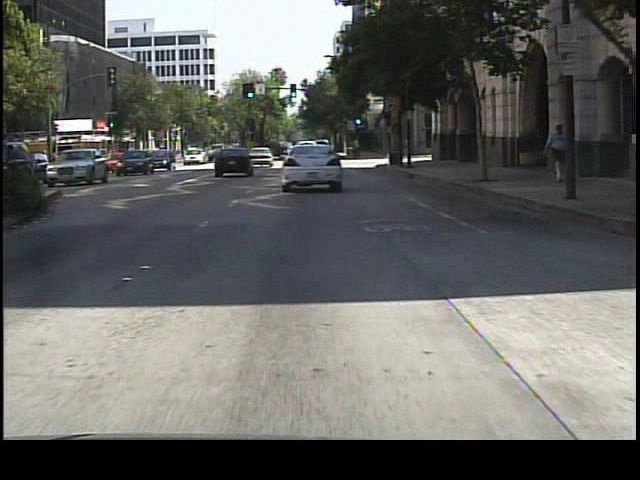person: (542, 119, 567, 186)
